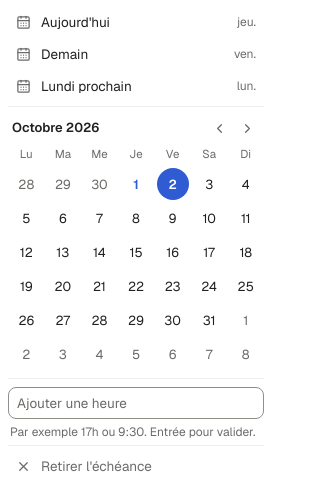
Test: DatePicker › rejects a time it cannot read
Type "midi" into the field labelled "heure" at (136, 403), box [8, 387, 264, 419]
Then press Enter
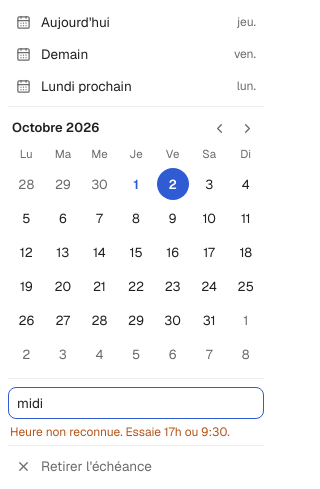
expect the text "Heure non reconnue. Essaie 17h ou 9:30." is shown: met, box [8, 423, 264, 441]
